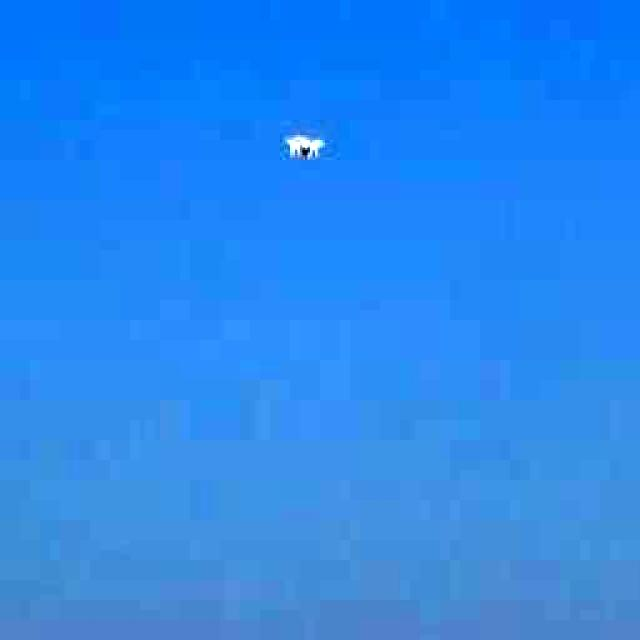bird: (259, 104, 346, 186)
